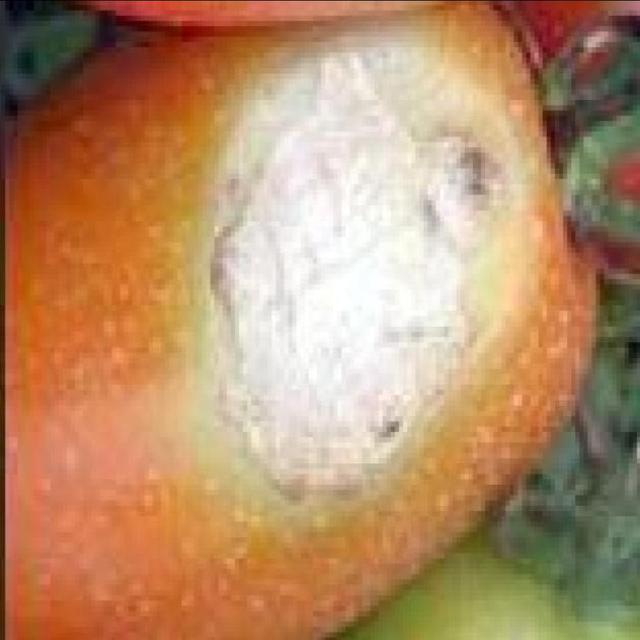Sunscald Fruit: (125, 26, 363, 342)
